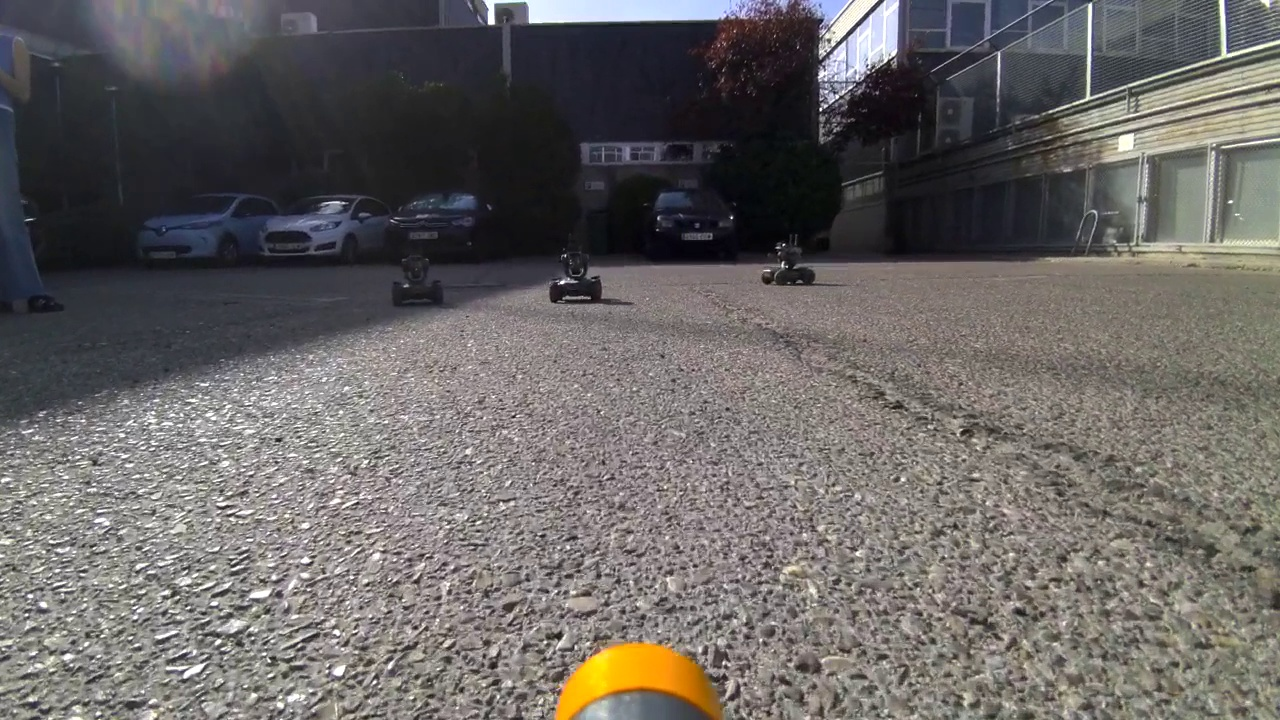robot: (537, 234, 615, 312), (757, 229, 823, 294), (388, 252, 450, 305)
